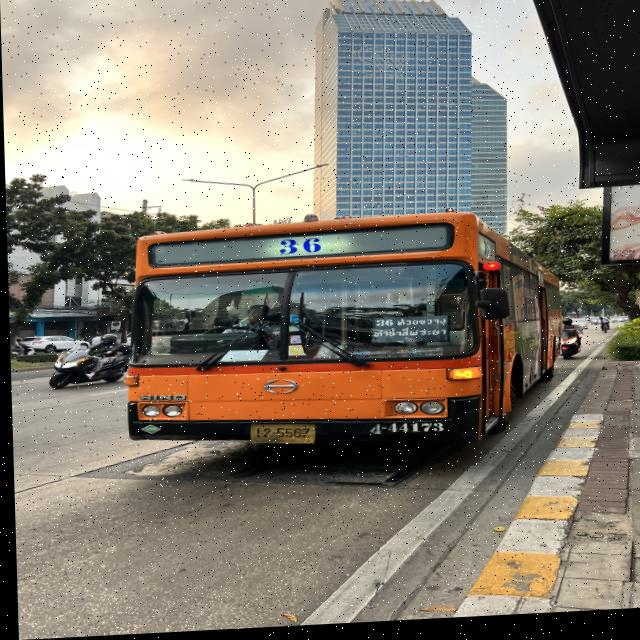BMTA-bus: (98, 205, 568, 468)
Bus Line Number: (271, 239, 326, 260)
Bus Side Number: (359, 421, 447, 442)
Destination Sign: (367, 318, 447, 349)
